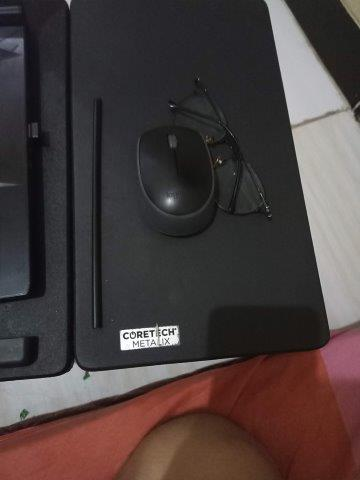sedotan: (91, 99, 102, 328)
